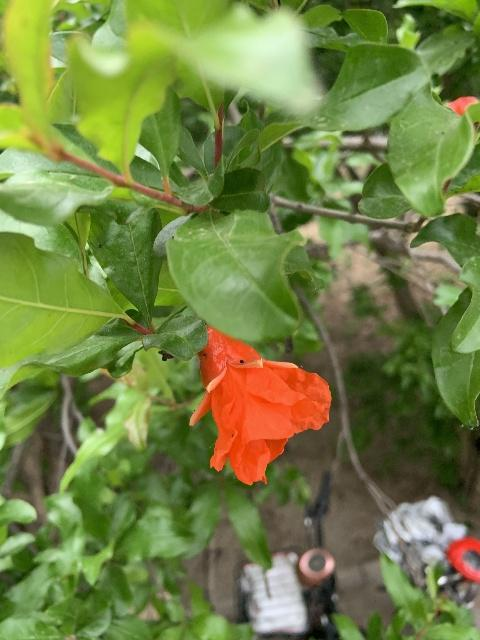flower: (190, 324, 330, 486)
